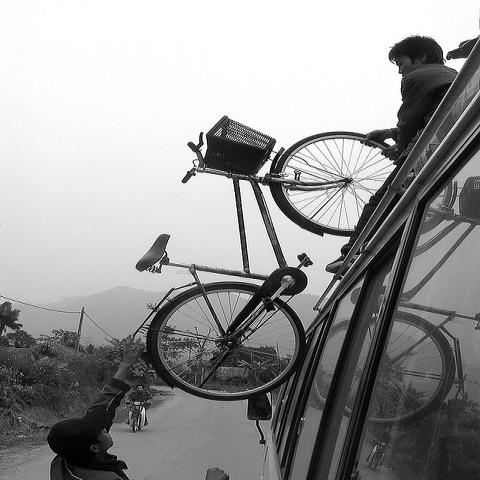bus: (266, 41, 479, 475)
motorcycle: (128, 402, 154, 433)
